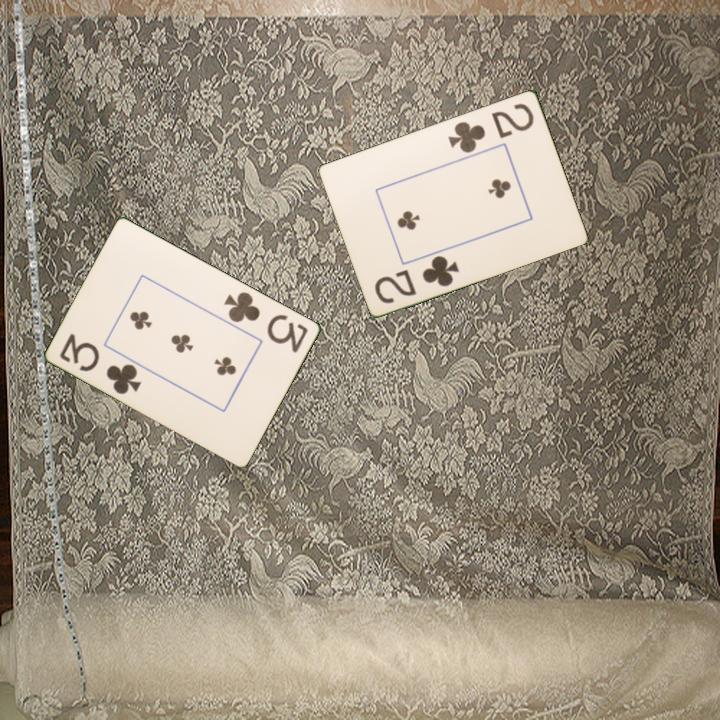2c: (445, 99, 537, 156), (371, 252, 462, 306)
3c: (221, 288, 311, 356), (56, 330, 145, 397)
